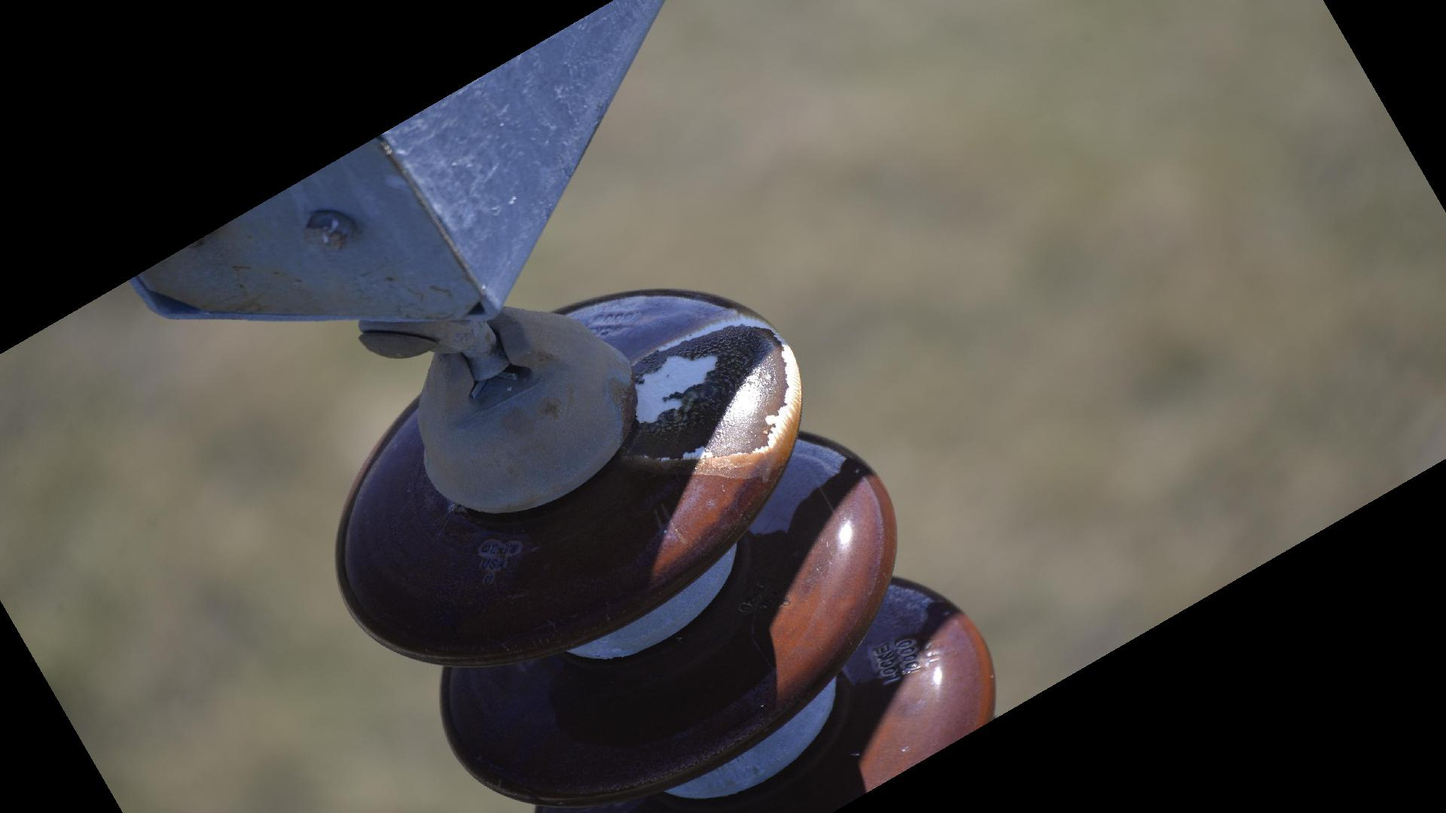insulator: (323, 281, 1003, 813)
insulator_flashover: (628, 310, 804, 475)
